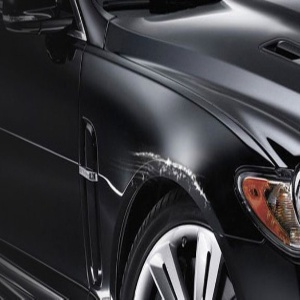bumper_scratch: (110, 136, 212, 206)
